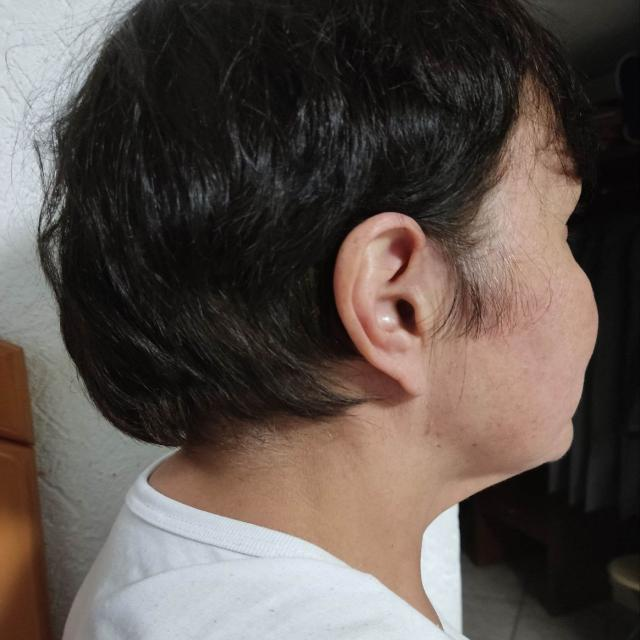ear: (335, 215, 429, 398)
